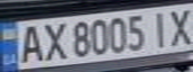0: (87, 16, 112, 56), (106, 15, 130, 54)
5: (124, 11, 151, 52)
8: (66, 17, 93, 59)
A: (15, 21, 45, 64)
I: (145, 8, 172, 48)
X: (36, 19, 69, 61), (163, 4, 193, 46)
